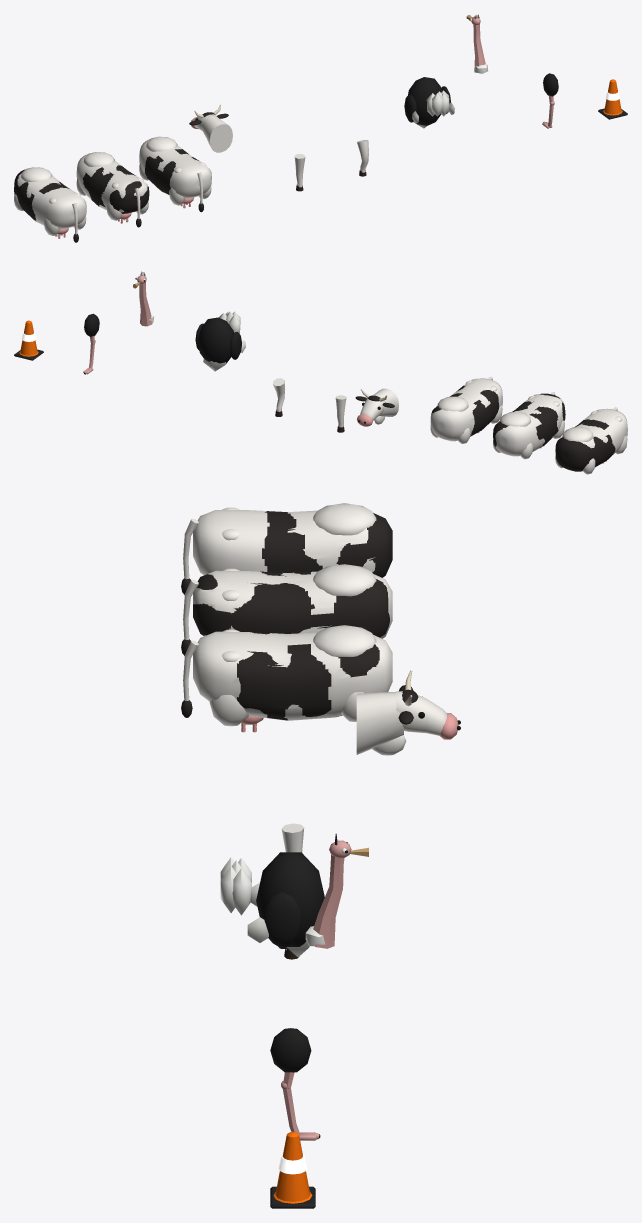
File: animals.glb
The picture shows the model from 3 angles, top to bottom: view 1: azimuth 30°, elevation 25°; view 2: azimuth 150°, elevation 25°; view 3: azimuth 270°, elevation 25°; orthographic projection. The views are drawn at different scales.
Parts seen in each view (by area): view 1: cow_body_0, cow_body_2, cow_body_1, ostrich_body, cow_head, prop_cone, ostrich_neck, ostrich_leg; view 2: cow_body_2, cow_body_0, cow_body_1, ostrich_body, cow_head, prop_cone, ostrich_neck, ostrich_leg, cow_legB, cow_legF; view 3: cow_body_2, cow_body_1, cow_body_0, ostrich_body, cow_head, prop_cone, ostrich_neck, ostrich_leg.
Part boxes in pixels (x1,y1,x2,y2): cow_body_0: (14, 167, 86, 242); cow_body_2: (139, 136, 211, 212); cow_body_1: (76, 152, 149, 227); ostrich_body: (404, 77, 454, 128); cow_head: (189, 104, 232, 152); prop_cone: (598, 79, 627, 119); ostrich_neck: (466, 14, 487, 73); ostrich_leg: (542, 73, 558, 128); cow_body_2: (430, 376, 502, 443); cow_body_0: (555, 407, 627, 474); cow_body_1: (493, 392, 565, 459); ostrich_body: (195, 311, 245, 371); cow_head: (355, 388, 398, 426); prop_cone: (14, 320, 43, 360); ostrich_neck: (133, 271, 154, 326); ostrich_leg: (83, 313, 99, 374); cow_legB: (273, 378, 284, 416); cow_legF: (335, 395, 346, 432); cow_body_2: (181, 625, 392, 732); cow_body_1: (181, 564, 392, 655); cow_body_0: (181, 503, 392, 594); ostrich_body: (220, 852, 324, 957); cow_head: (356, 670, 460, 755); prop_cone: (270, 1131, 315, 1208); ostrich_neck: (305, 833, 368, 948); ostrich_leg: (270, 1028, 320, 1140).
Bounding box in the file's own units: 13.27 × 2.6 × 2.72.
